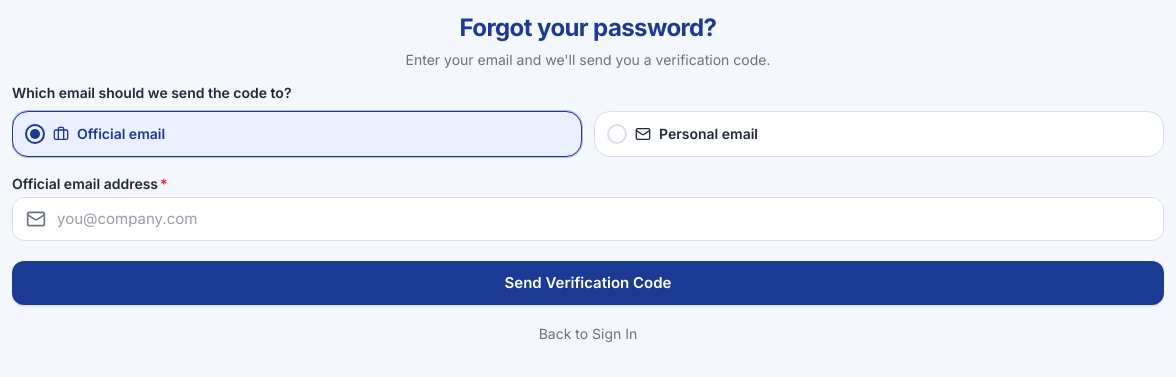
Test case: ForgotPasswordWizard Component Flow › completes the entire 3-step password reset wizard successfully
Later steps or results of the test are not shown.
Expected: the heading "Forgot your password?" is shown, [460,13,716,42]
Expected: the radio button labelled "Official email" is checked, [12,111,582,157]
In the field labelled "Official email address*": (588, 219) [12,197,1164,241], type "test@company.com"
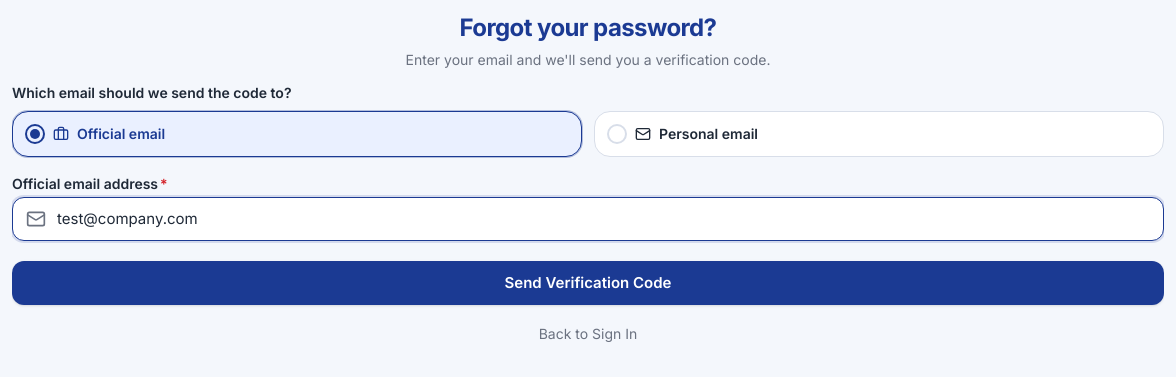
Click the button "Send Verification Code": (588, 283) [12,261,1164,305]
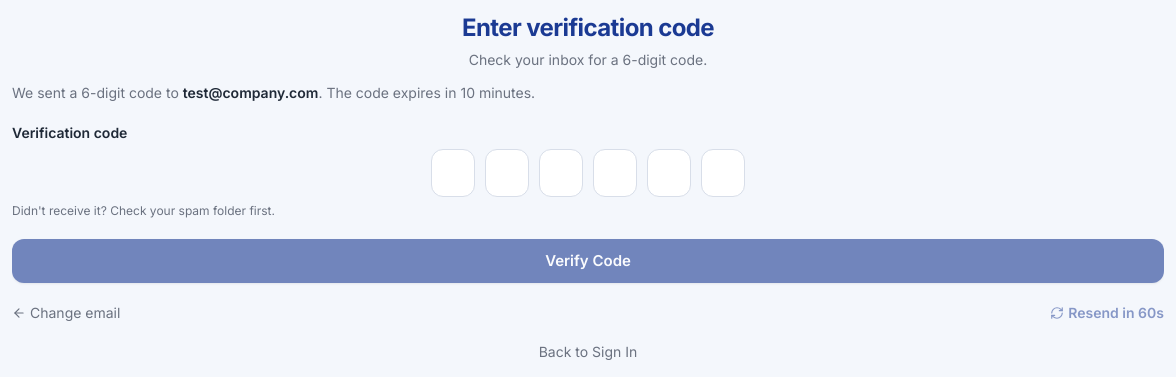
Result: the heading "Enter verification code" is shown at [462,13,714,42]
Result: the text "test@company.com" is shown at [183,84,318,101]
